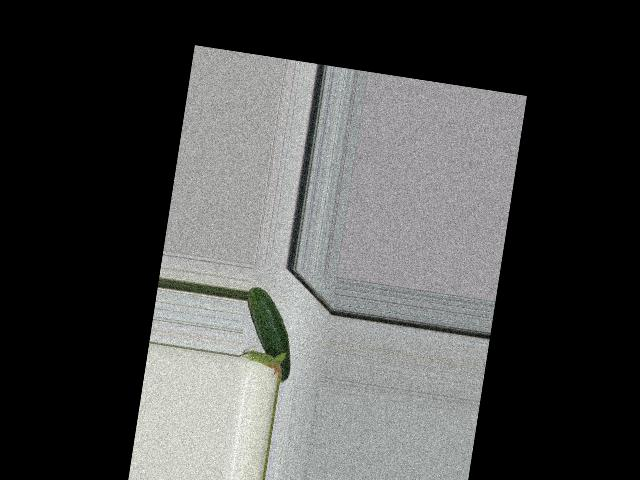cucumber: (235, 285, 301, 383)
